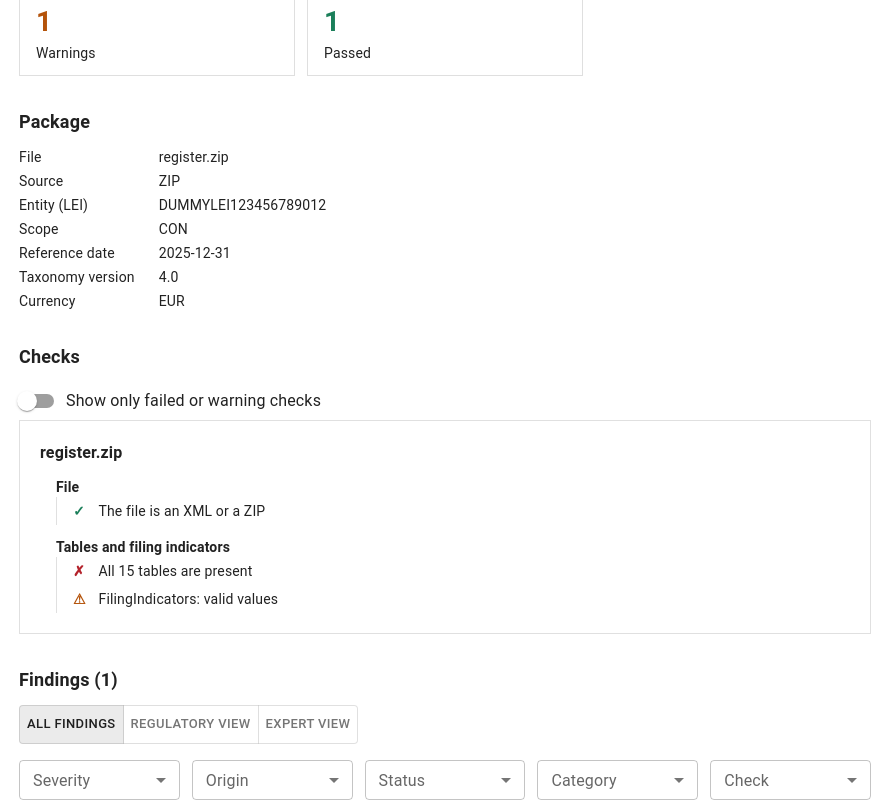
Test case: Check report › lists the checks by category and can show only those that failed
Earlier steps of the test are not shown.
(page scrolled)
Check: the text "The file is an XML or a ZIP" is shown, box x1=98 y1=503 x2=265 y2=519
Check: the text "FilingIndicators: valid values" is shown, box x1=98 y1=591 x2=278 y2=607
Click the switch labelled "Show only failed or warning checks": coordinates (169, 401) x1=17 y1=391 x2=321 y2=411
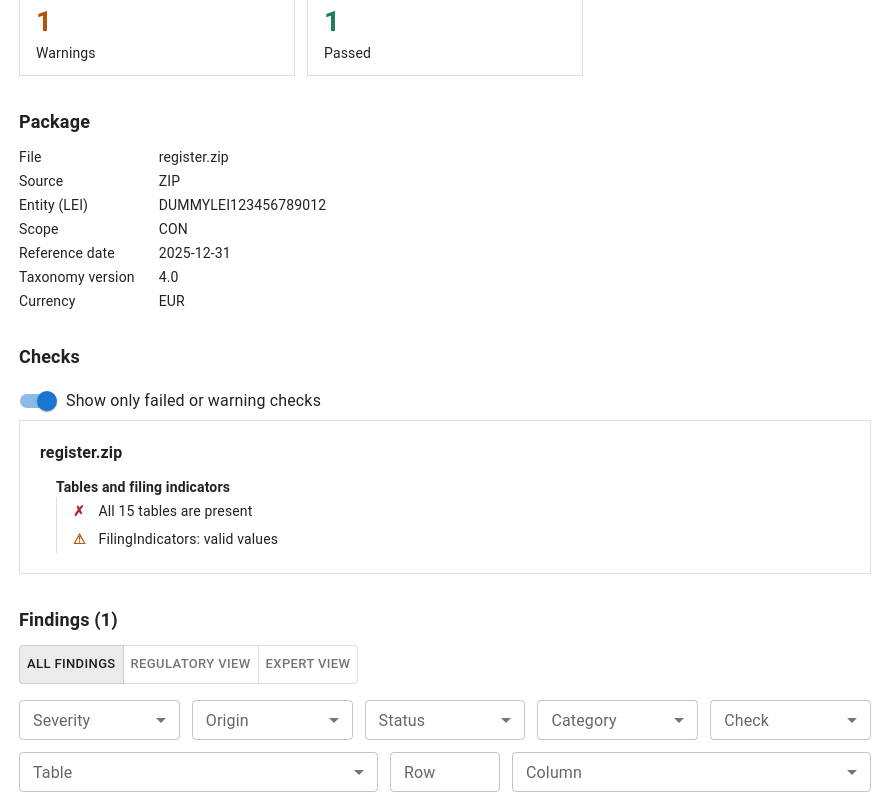
Check: the text "All 15 tables are present" is shown, box x1=98 y1=503 x2=252 y2=519
Check: the text "The file is an XML or a ZIP" is gone
